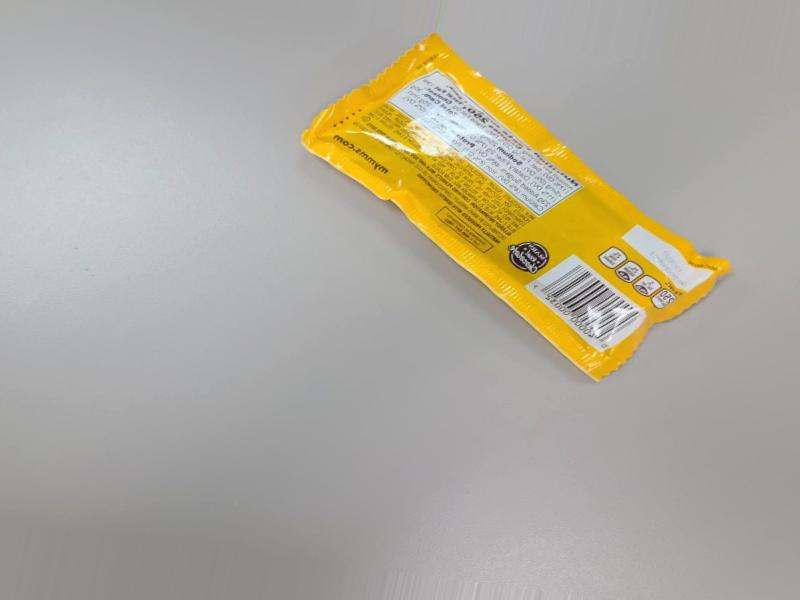m&m: (348, 50, 725, 423)
